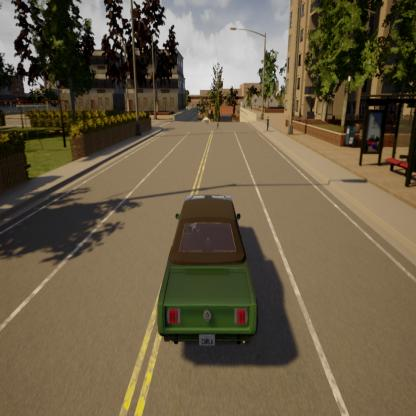Cars: (148, 184, 274, 365)
Pedestrian: (265, 113, 272, 133), (215, 114, 221, 133)
